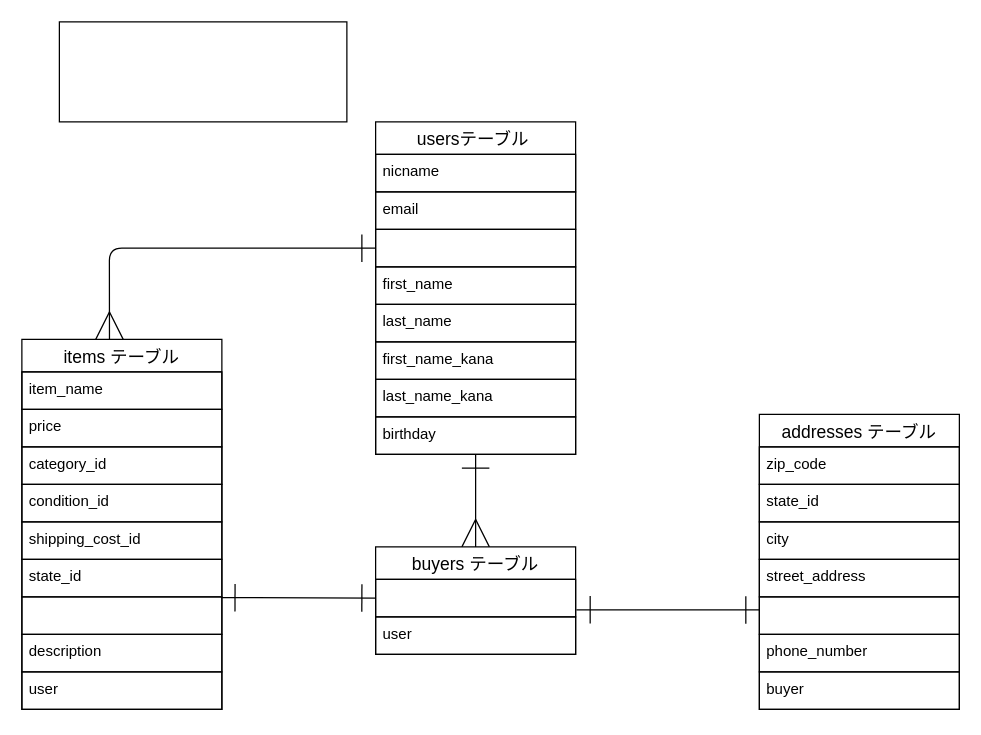
Image size: 981x735. Some labels were removed from this diagram. Here are the shapes that lost their labels. From the top down, the centre of each, then its label:
point 202,71: Furima ER図
point 475,247: encrypted_password
point 121,615: date_of_shipment_id
point 475,597: item
point 858,615: apartment_name
